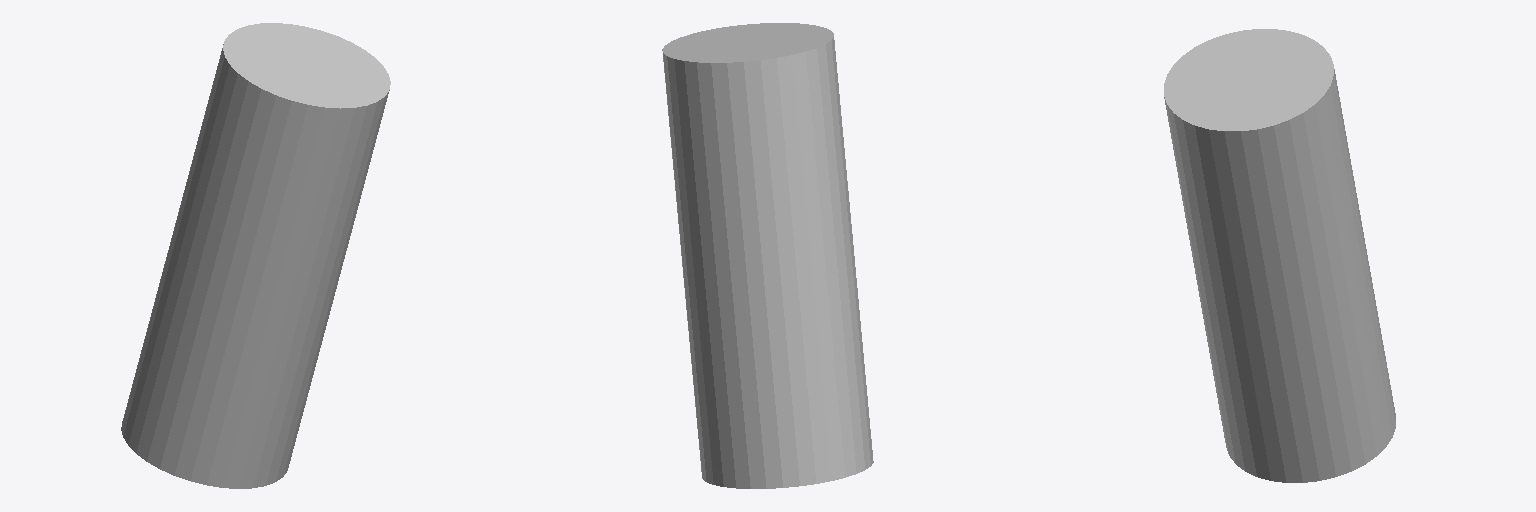
File: score_item.obj
The picture shows the model from 3 angles: view 1: azimuth 30°, elevation 25°; view 2: azimuth 150°, elevation 25°; view 3: azimuth 270°, elevation 25°; orthographic projection.
Bounding box in the file's own units: 0.0964 × 0.1793 × 0.0894.